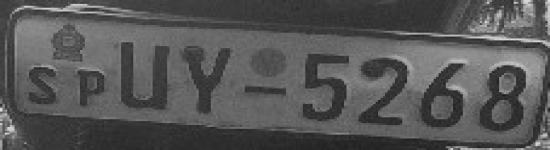-: (238, 82, 295, 104)
2: (352, 44, 414, 131)
5: (290, 45, 354, 127)
6: (416, 54, 473, 134)
8: (472, 53, 532, 137)
P: (70, 65, 111, 112)
S: (24, 62, 64, 108)
U: (111, 34, 177, 116)
Y: (175, 40, 237, 118)
